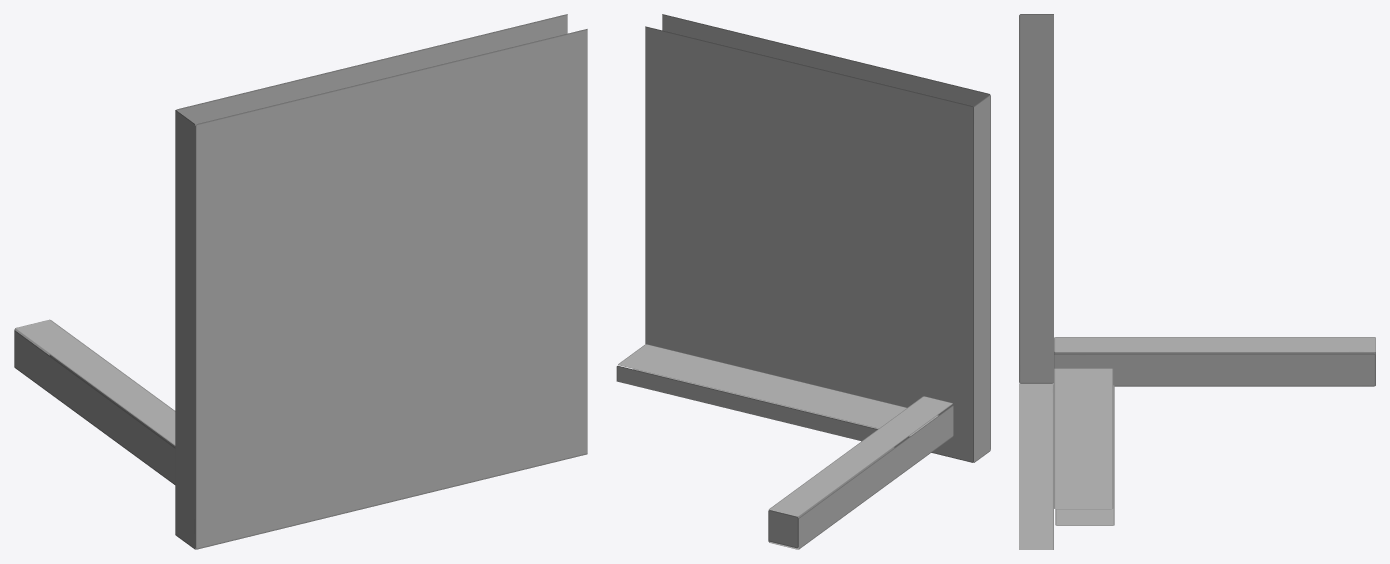
Rendered from pz_table_tables_high_02_large_light_0_0.obj.
3 views of the same model, side by side, from view 1: azimuth 30°, elevation 25°; view 2: azimuth 150°, elevation 25°; view 3: azimuth 270°, elevation 25° (orthographic). The views are drawn at different scales.
Bounding box in the file's own units: 0.8438 × 0.875 × 0.7655.
Materials: 1 (1 with a texture image).
